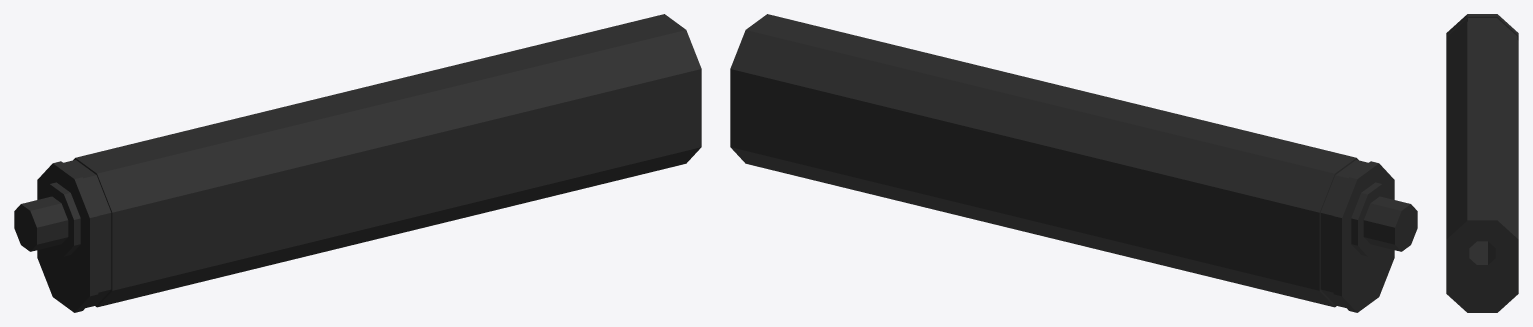
File: Muffler_02_3.fbx
The picture shows the model from 3 angles, left to right: view 1: azimuth 30°, elevation 25°; view 2: azimuth 150°, elevation 25°; view 3: azimuth 270°, elevation 25°; orthographic projection. The views are drawn at different scales.
Visible parts, largest first — view 1: Muffler_02_3; view 2: Muffler_02_3; view 3: Muffler_02_3.
Part boxes in pixels (x1,y1,x2,y2): Muffler_02_3: [14, 14, 701, 312]; Muffler_02_3: [730, 14, 1417, 312]; Muffler_02_3: [1446, 14, 1518, 312].
Bounding box in the file's own units: 0.2491 × 0.049 × 0.0348.
